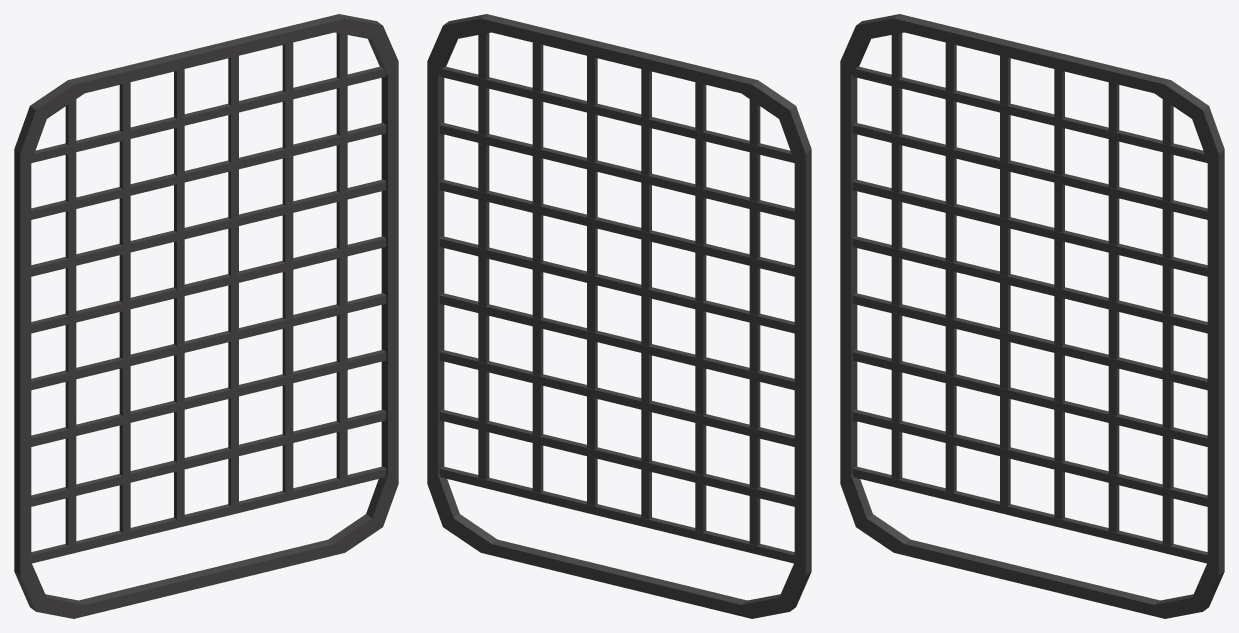
File: Billboard.fbx
3 views of the same model, side by side, from view 1: azimuth 30°, elevation 25°; view 2: azimuth 150°, elevation 25°; view 3: azimuth 330°, elevation 25° (orthographic).
Visible parts, largest first — view 1: Billboard; view 2: Billboard; view 3: Billboard.
Part boxes in pixels (box(x1,y1,x2,y2)): Billboard: box(14, 14, 398, 618); Billboard: box(427, 14, 811, 618); Billboard: box(840, 14, 1224, 618).
Size of the model in its own units: 105 by 2.94 by 141.
